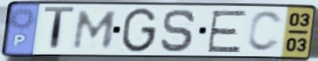C: (245, 9, 285, 54)
E: (205, 9, 250, 54)
G: (119, 6, 160, 54)
M: (70, 9, 120, 51)
S: (158, 8, 198, 54)
T: (42, 5, 78, 54)
